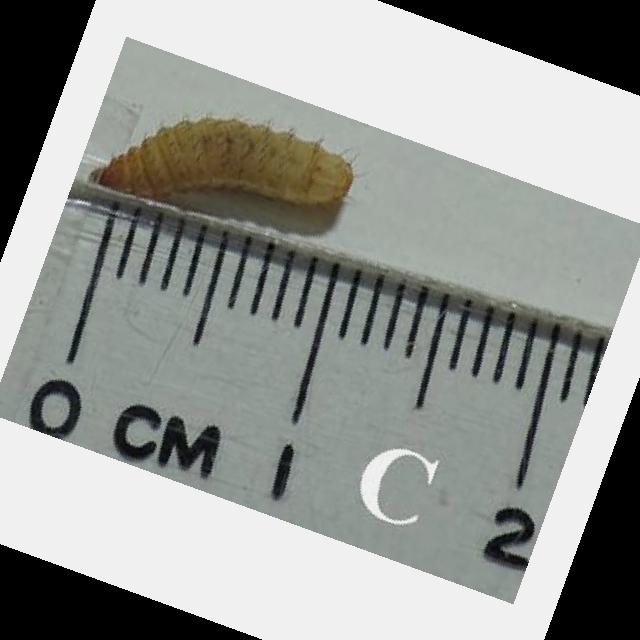Maggot: (88, 114, 361, 214)
